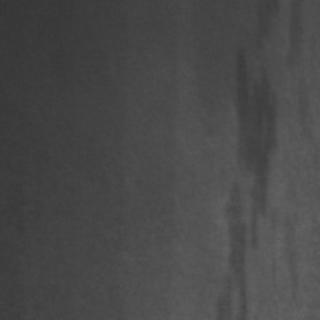inclusion: (211, 3, 283, 313)
